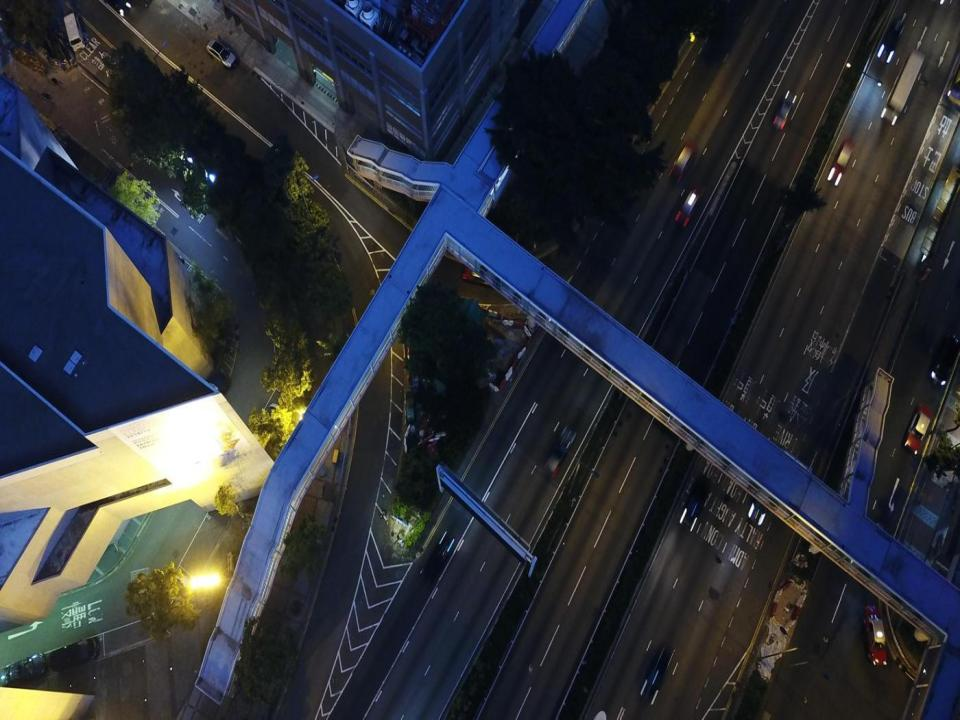bus: (881, 50, 927, 128)
car: (745, 452, 780, 528), (927, 324, 960, 388), (679, 469, 710, 532), (542, 425, 577, 476), (876, 11, 908, 65), (905, 403, 931, 459), (865, 603, 887, 669), (827, 138, 854, 186), (772, 85, 797, 131), (676, 185, 702, 229), (670, 140, 695, 184), (207, 38, 235, 68)
van: (64, 12, 84, 50)
